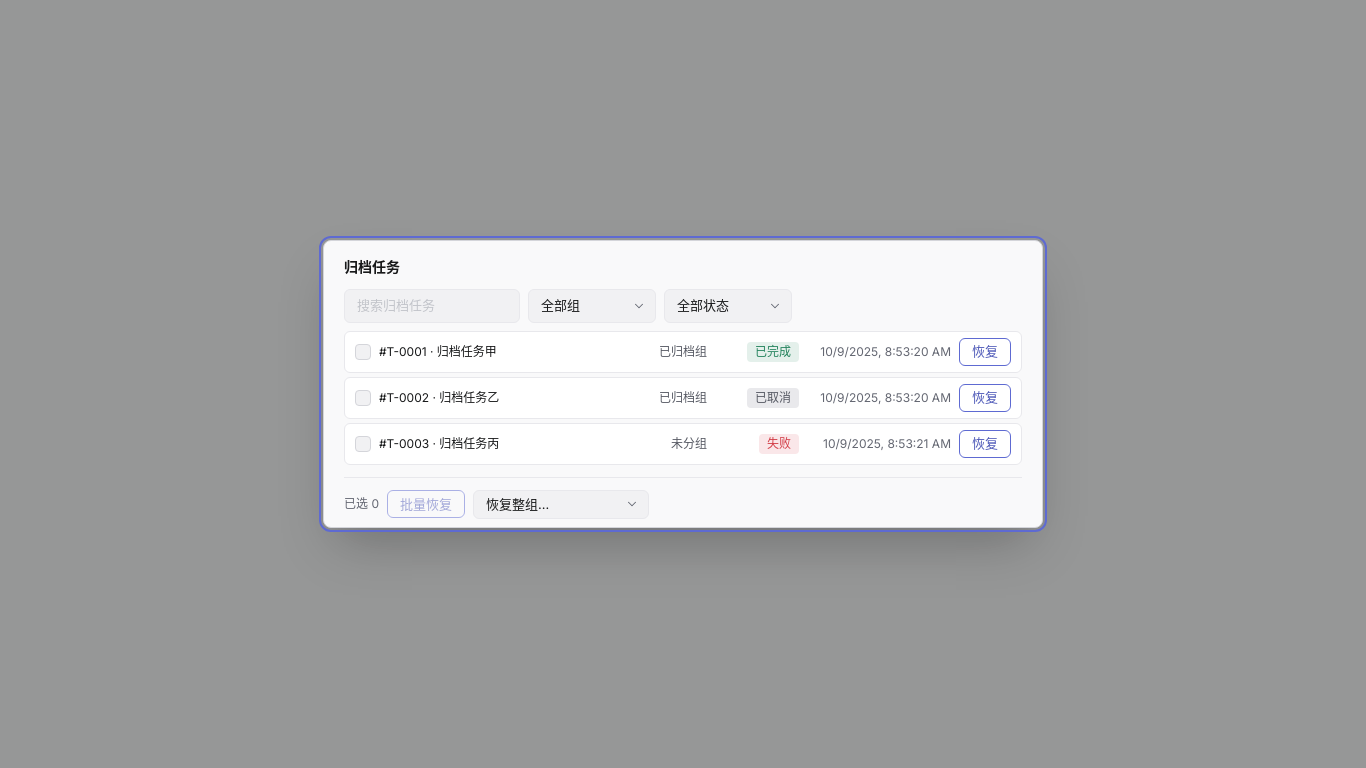
Test: ArchivePanel › 勾选两条 → 批量恢复按列表序逐条 unarchive，已选计数归零
Expected: the text "#T-0001 · 归档任务甲" is shown, [379,344,497,358]
What coordinates should you click on to do the following:
click the checkbox named "选择 归档任务甲"
I would click on:
 (363, 352)
Its box is [355,344,371,360].
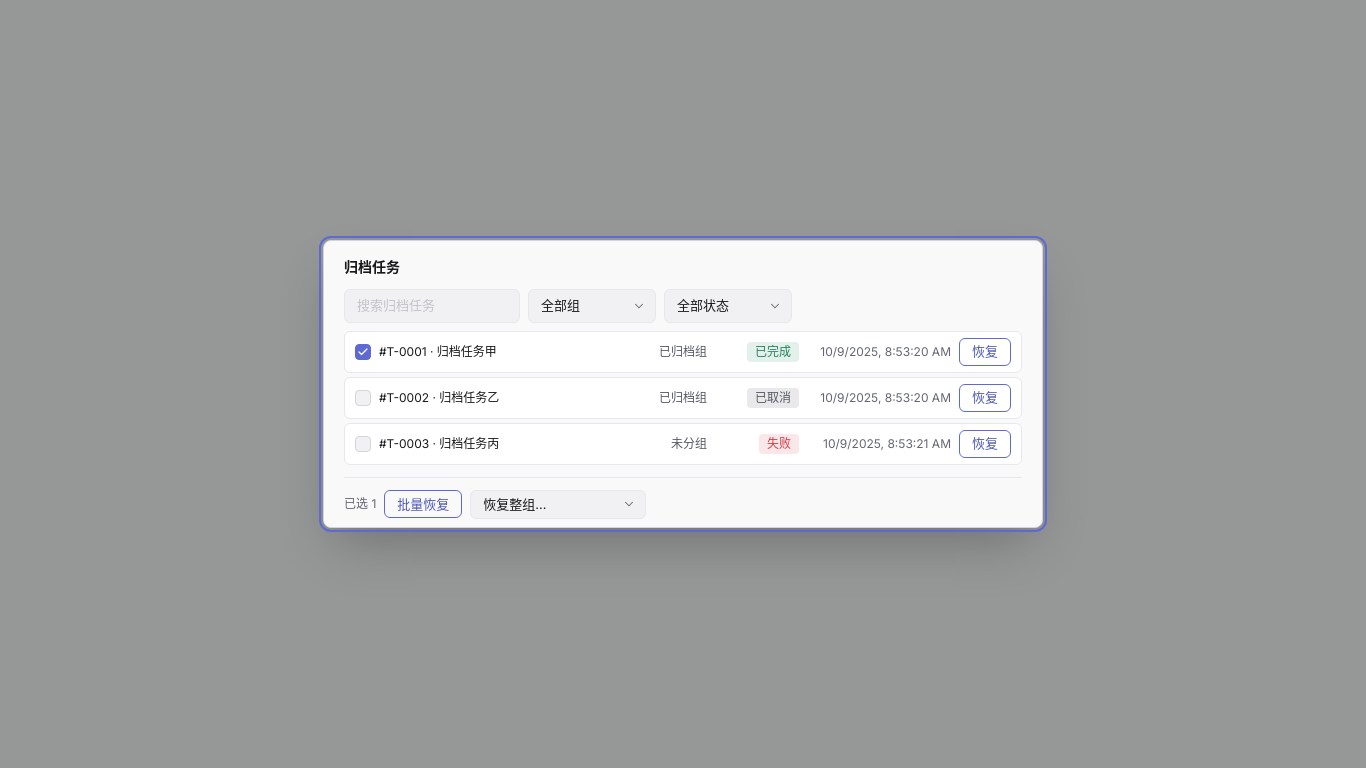
What coordinates should you click on to do the following:
click the checkbox named "选择 归档任务丙"
I would click on:
 (363, 444)
Its box is [355,436,371,452].
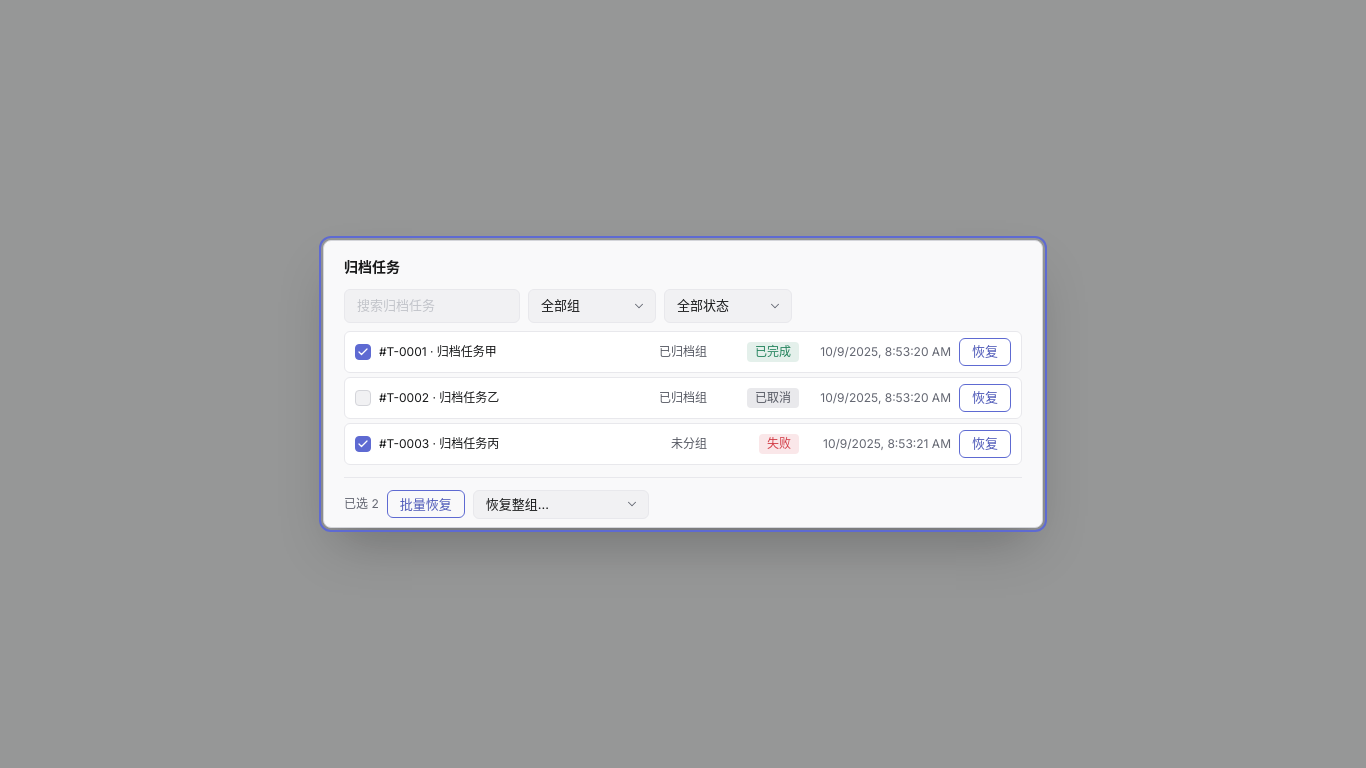
Now the text "已选 2" is shown, box [344,496,379,512]
What coordinates should you click on to do the following:
click the button "批量恢复"
I would click on:
 (426, 504)
Its box is [387,490,465,518].
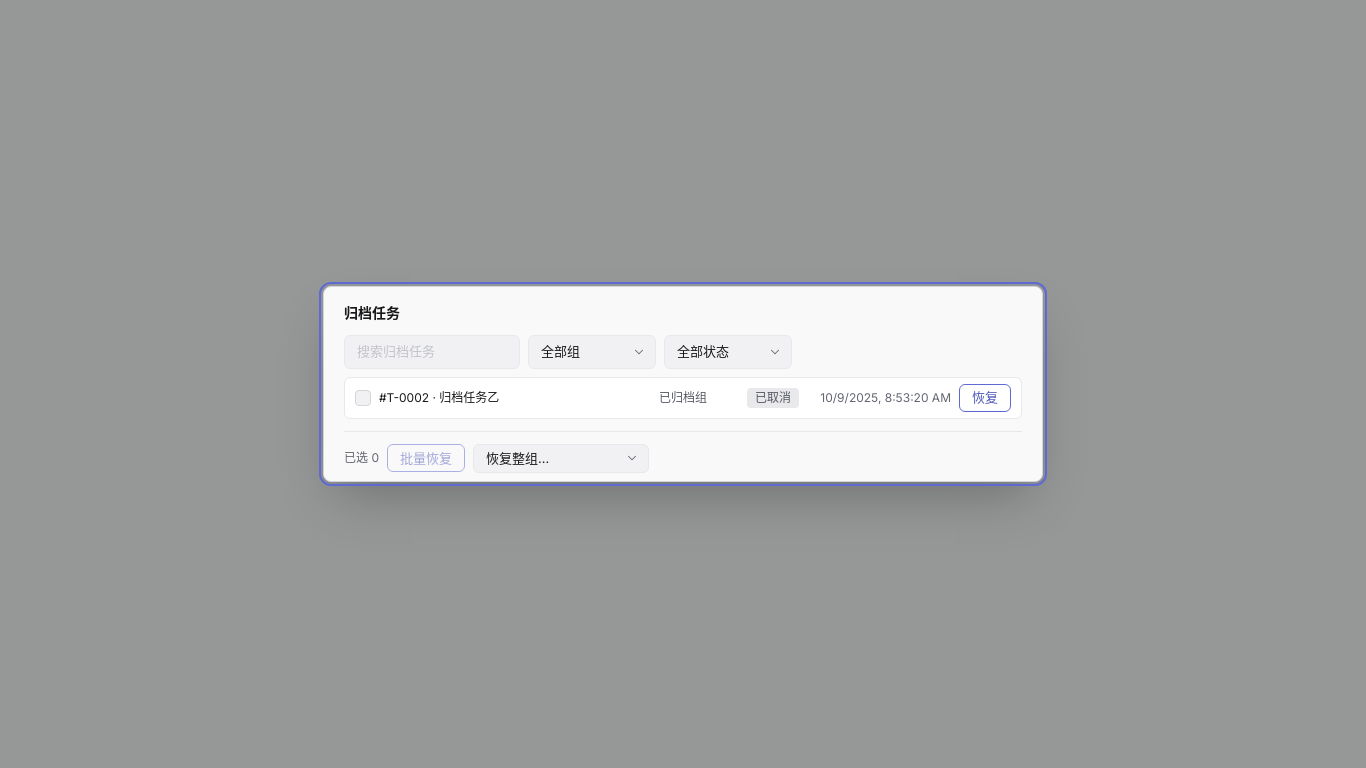
Now the text "归档任务甲" is gone
Now the text "归档任务丙" is gone
Now the text "已选 0" is shown, box [344,450,379,466]
